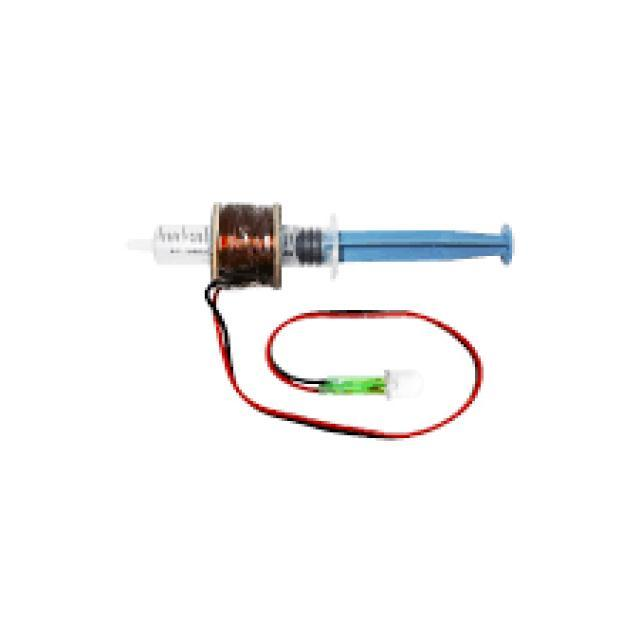syringe: (120, 180, 546, 443)
